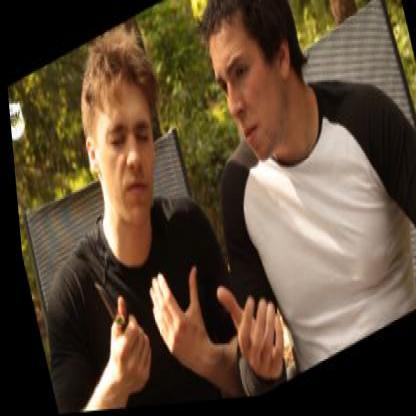knife: (78, 248, 151, 394)
